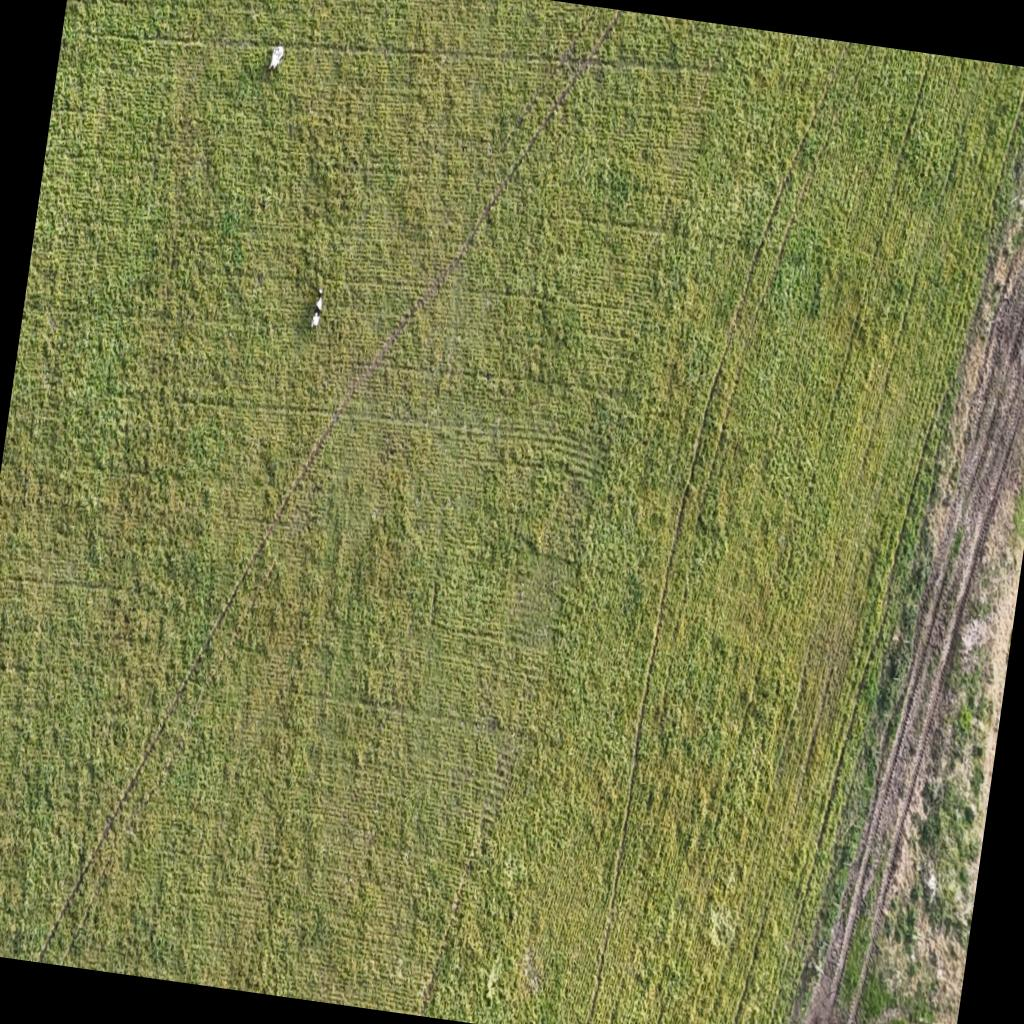cow: (310, 289, 325, 332), (267, 44, 285, 76), (318, 288, 324, 299)
